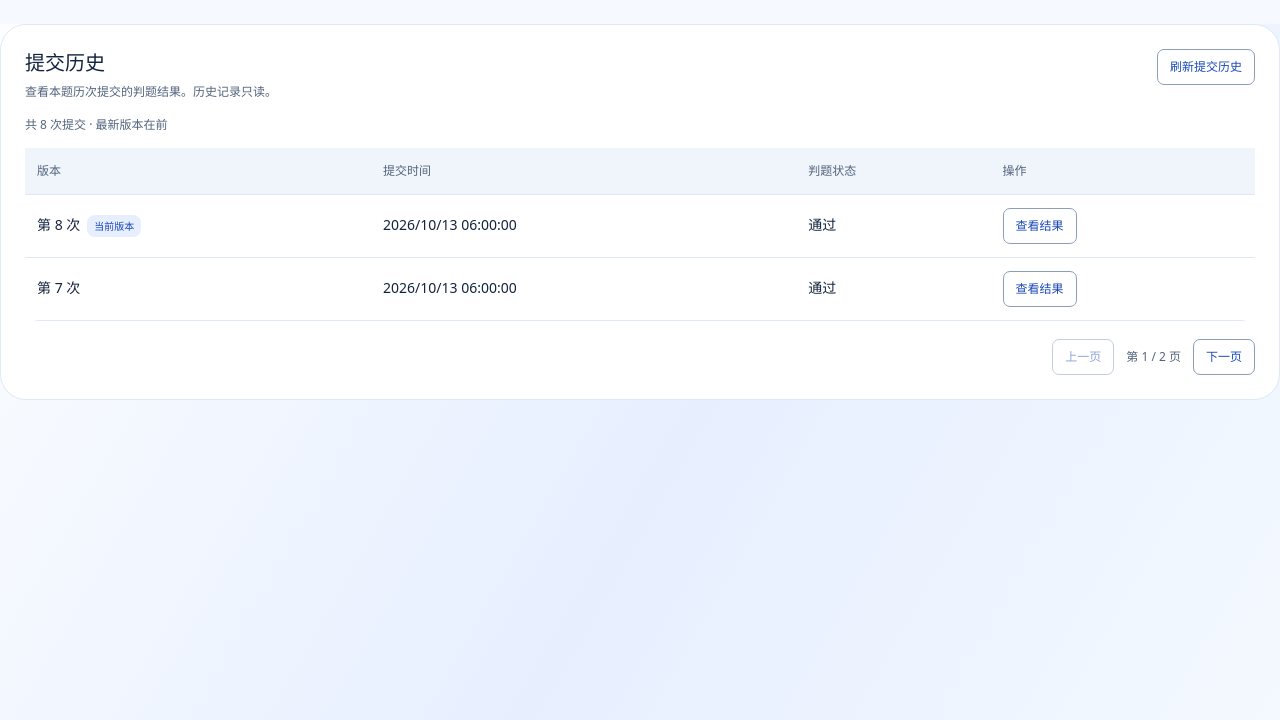
Test case: 切换详情时只显示最后选择的响应，编译诊断按文本渲染
Click the button with aria-label "查看第 8 次提交结果" at (1040, 226), box [1003,208,1077,244]
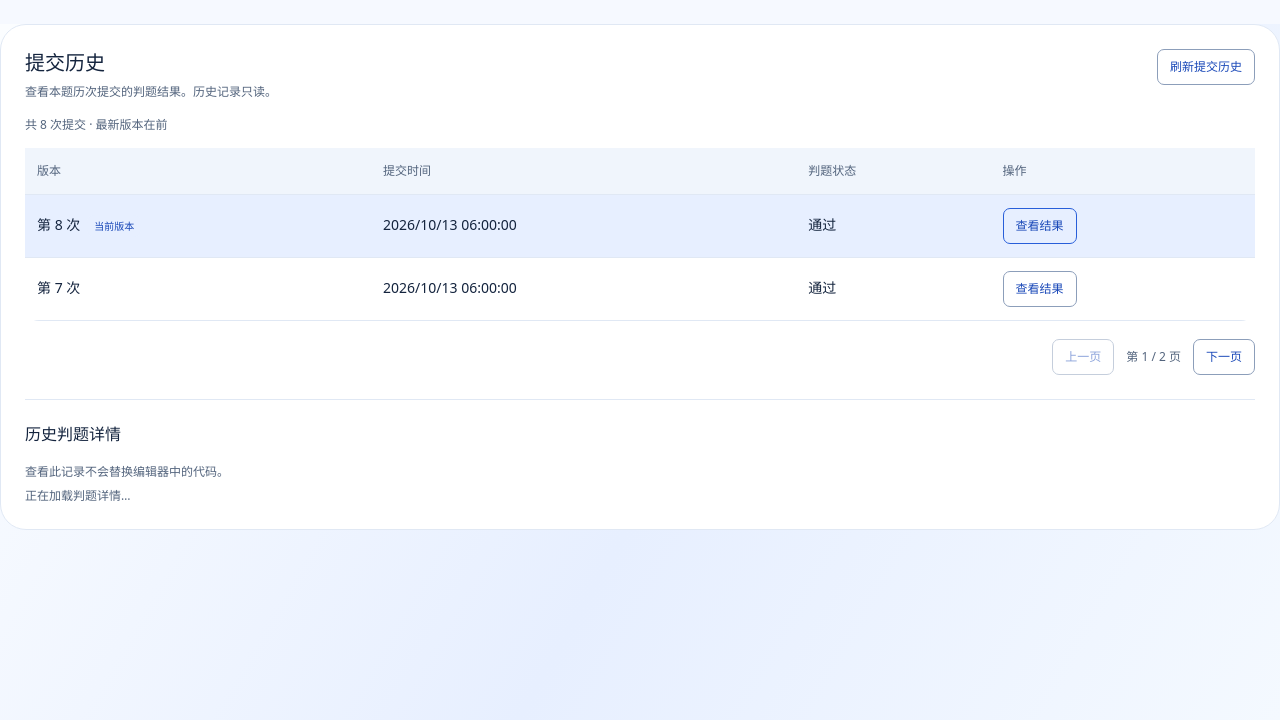
Click the button with aria-label "查看第 7 次提交结果" at (1040, 289), box [1003,271,1077,307]
(page scrolled)
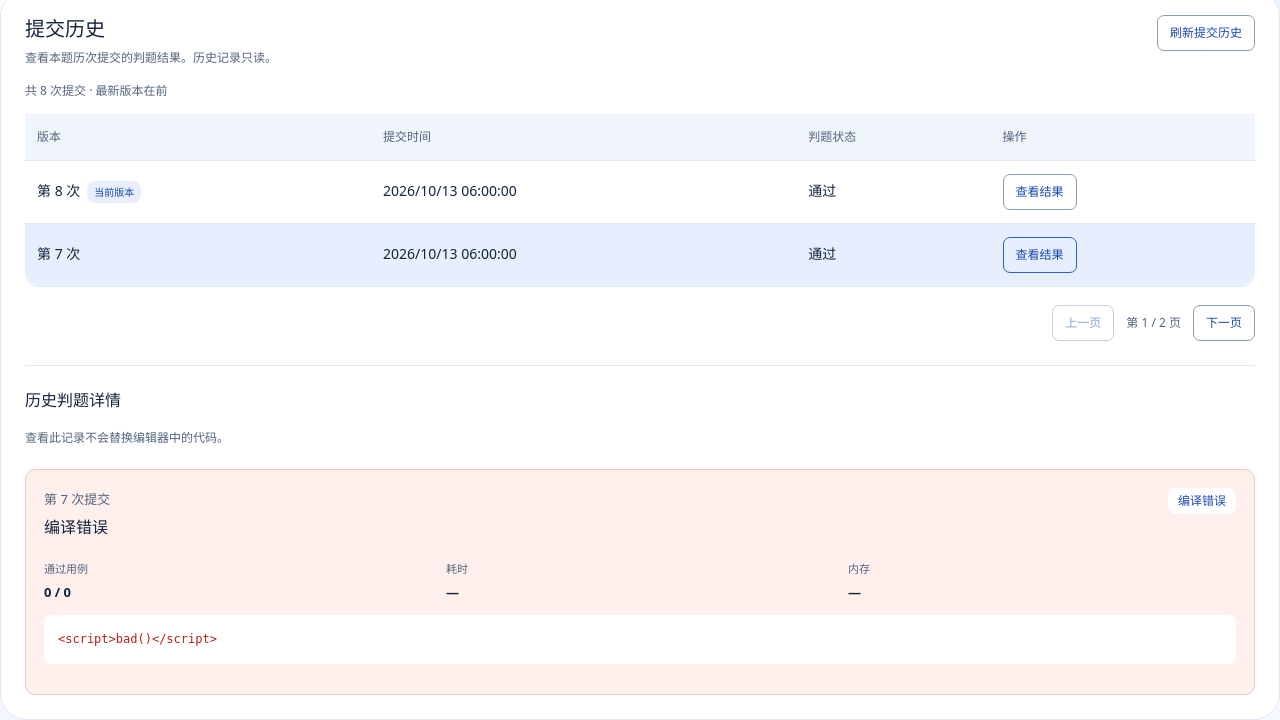
Check: the element with class "history-detail" shows "第 7 次提交", box [44,490,110,508]
